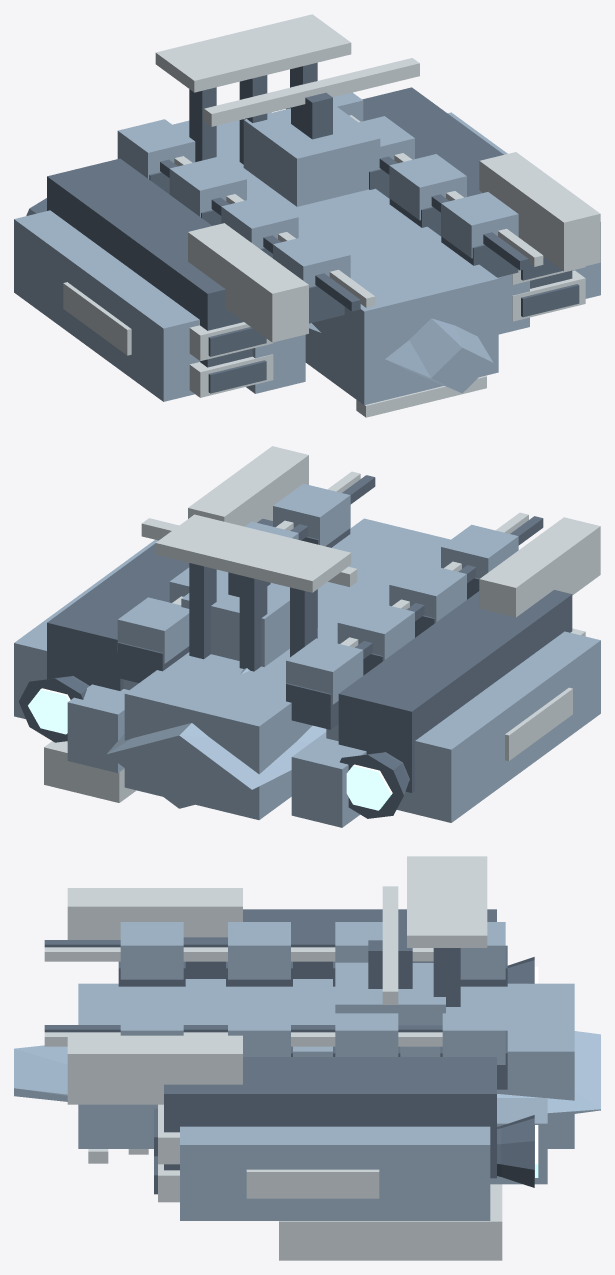
The picture shows the model from 3 angles, top to bottom: view 1: azimuth 30°, elevation 25°; view 2: azimuth 150°, elevation 25°; view 3: azimuth 270°, elevation 25°; orthographic projection. The views are drawn at different scales.
Bounding box in the file's own units: 15.91 × 8.94 × 17.5.
